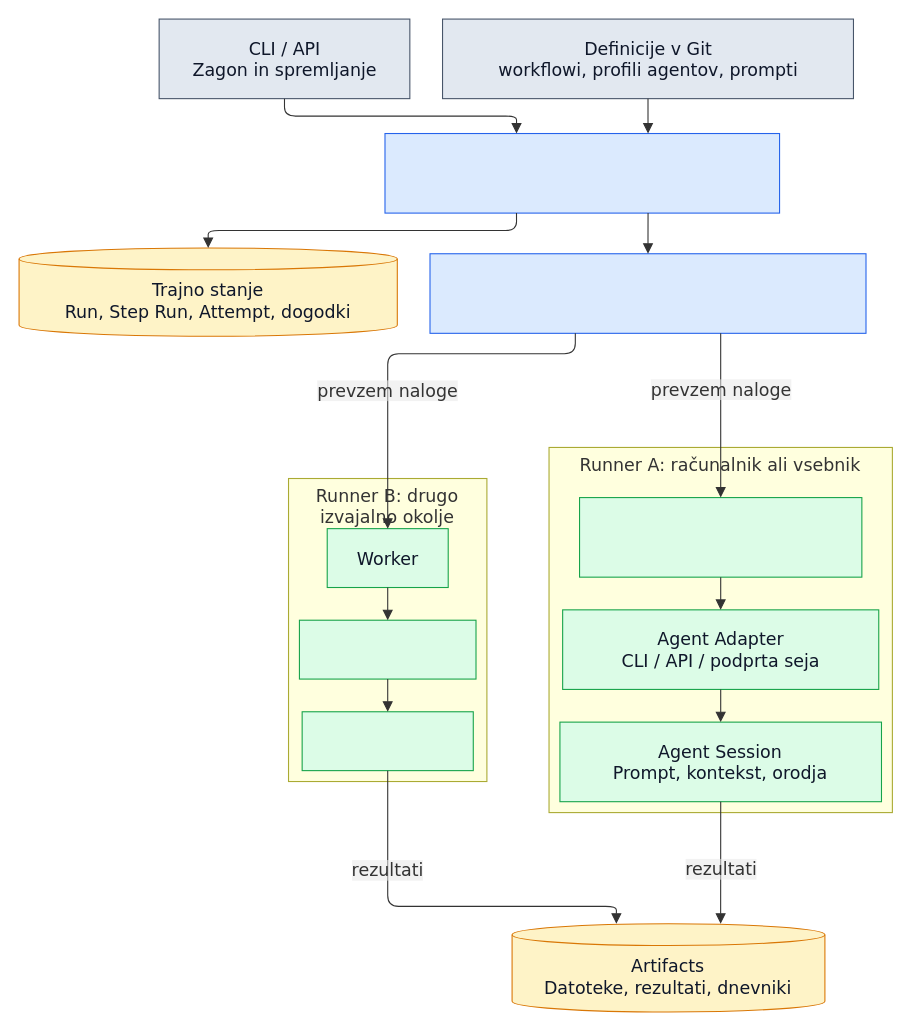
This 912x1031 diagram has some shape labels left out. Each missing label, with the centre of its shape:
Agent Adapter: the point at 387,649
Agent Session: the point at 387,741
Orchestrator Validacija, odvisnosti, razporejanje: the point at 582,172
Vrsta pripravljenih korakov Prevzem, lease, heartbeat: the point at 647,293
Worker Prevzem in izvedba koraka: the point at 720,536
